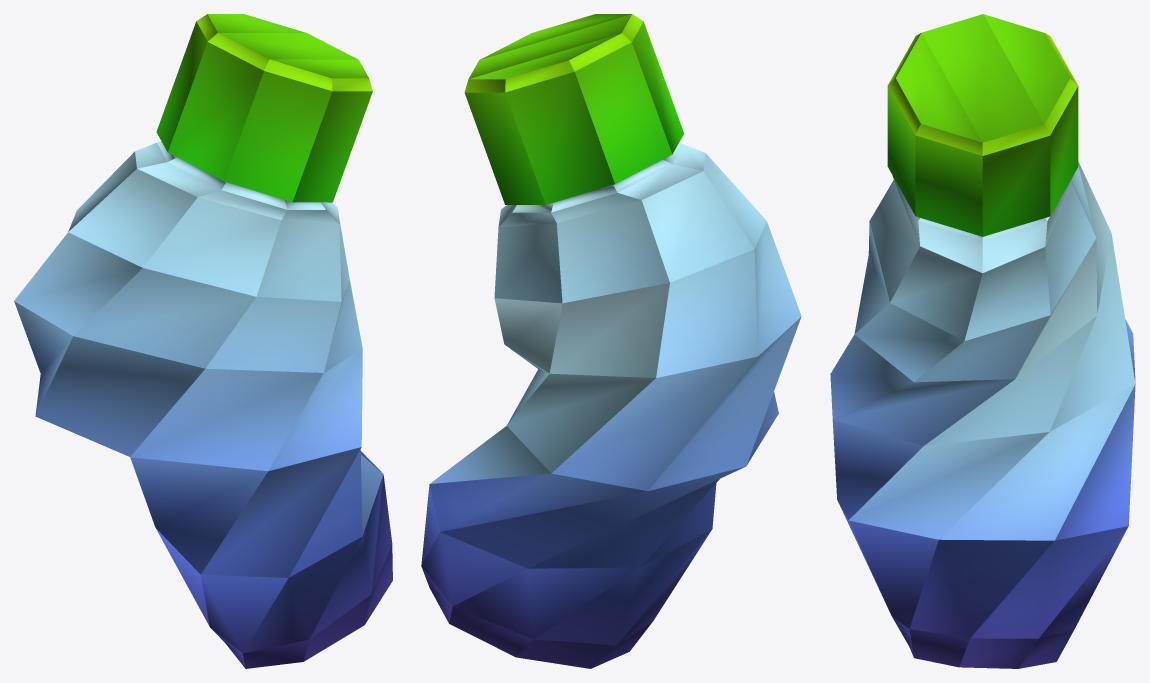
Rendered from Blender.fbx.
The picture shows the model from 3 angles, left to right: view 1: azimuth 30°, elevation 25°; view 2: azimuth 150°, elevation 25°; view 3: azimuth 270°, elevation 25°; orthographic projection. The views are drawn at different scales.
Visible parts, largest first — view 1: 1023; view 2: 1023; view 3: 1023.
Part boxes in pixels (left/top/right/bottom): 1023: left=14, top=14, right=392, bottom=668; 1023: left=421, top=14, right=801, bottom=668; 1023: left=830, top=14, right=1135, bottom=668.
Size of the model in its own units: 12.63 by 22.14 by 9.86.
